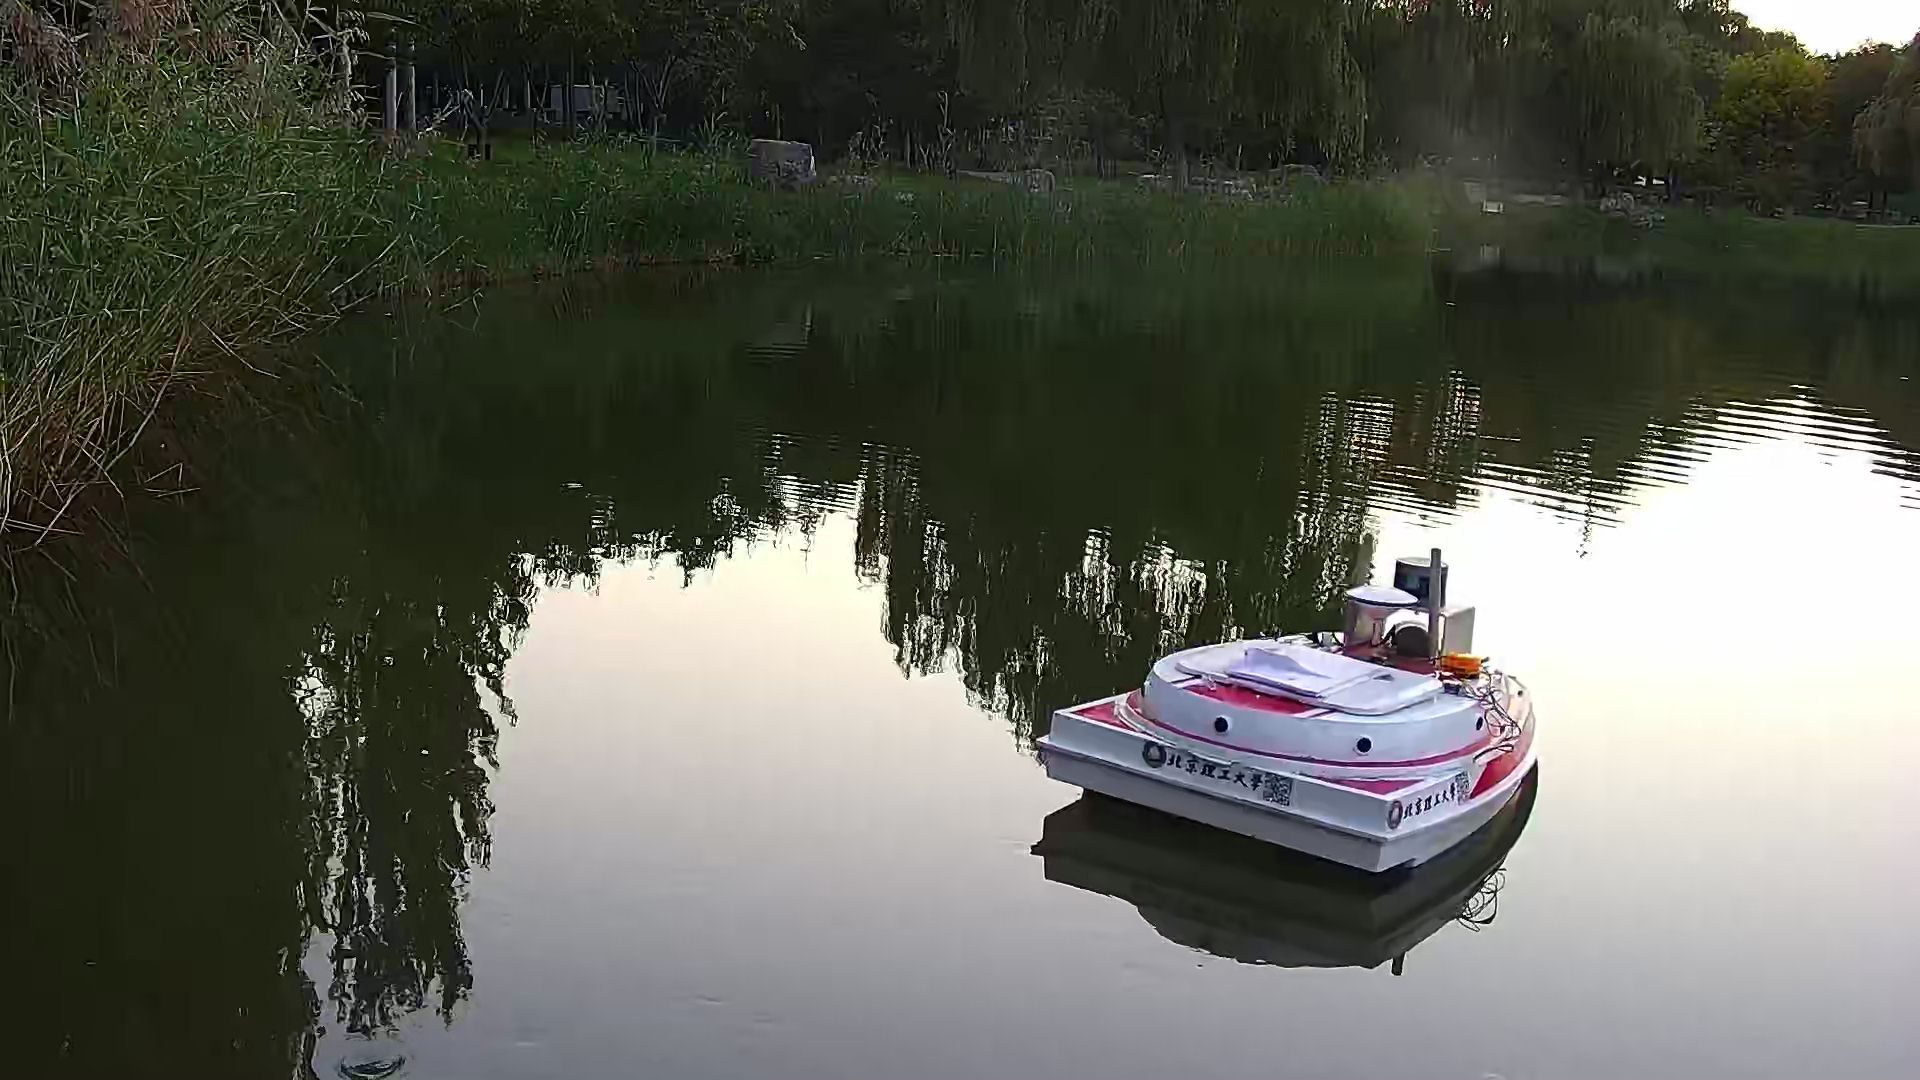boat: (1033, 502, 1549, 916)
